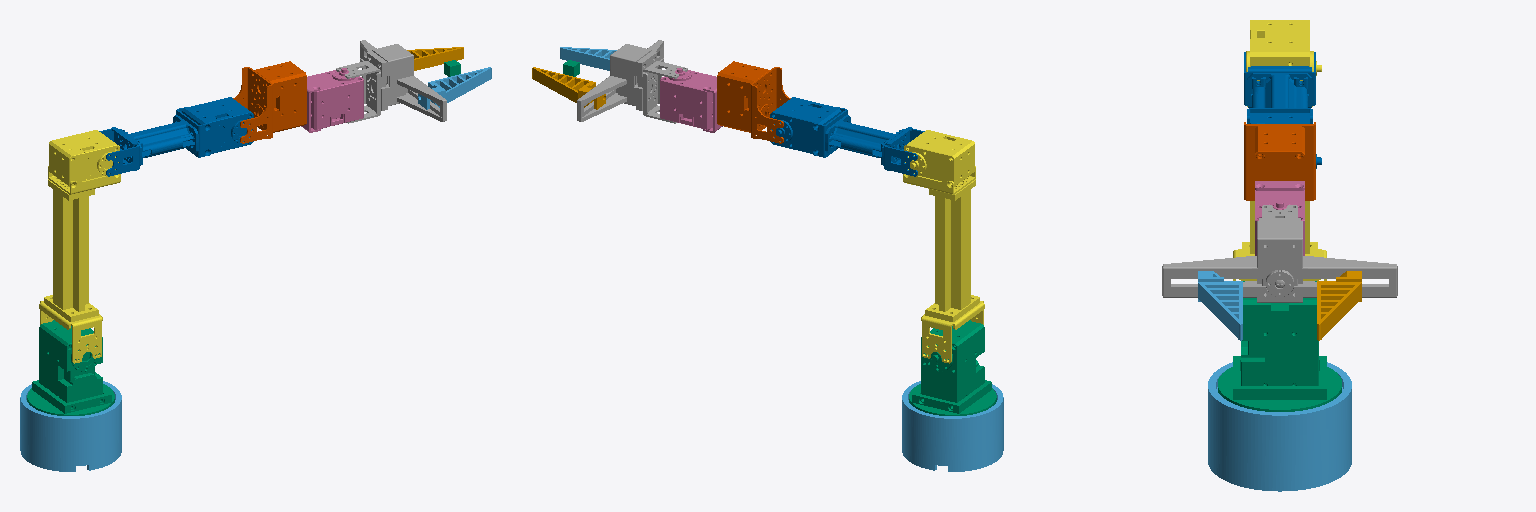
URDF robot description (om):
<?xml version="1.0" ?>
<!-- =================================================================================== -->
<!-- |    This document was autogenerated by xacro from om_v01.urdf.xacro              | -->
<!-- |    EDITING THIS FILE BY HAND IS NOT RECOMMENDED                                 | -->
<!-- =================================================================================== -->
<!-- Open_Manipulator Chain -->
<robot name="om">
  <link name="world"/>
  <joint name="world_joint" type="fixed">
    <origin rpy="0 0 0" xyz="0 0.0 0.0"/>
    <parent link="world"/>
    <child link="link1"/>
  </joint>
  <!-- Link 1 -->
  <link name="link1">
    <visual>
      <origin rpy="0 0 0" xyz="0 0 0"/>
      <geometry>
        <mesh filename="package://om_urdf/meshes/stl/chain_link1.stl" scale="0.001 0.001 0.001"/>
      </geometry>
      <material name="grey"/>
    </visual>
    <collision>
      <origin rpy="0 0 0" xyz="0 0 0"/>
      <geometry>
        <mesh filename="package://om_urdf/meshes/stl/chain_link1.stl" scale="0.001 0.001 0.001"/>
      </geometry>
    </collision>
    <inertial>
      <origin xyz="3.0876154e-04 0.0000000e+00 -1.2176461e-04"/>
      <mass value="7.9119962e-02"/>
      <inertia ixx="1.2505234e-05" ixy="0.0" ixz="-1.7855208e-07" iyy="2.1898364e-05" iyz="0.0" izz="1.9267361e-05"/>
    </inertial>
  </link>
  <!-- Joint 1 -->
  <joint name="joint1" type="revolute">
    <parent link="link1"/>
    <child link="link2"/>
    <origin rpy="0 0 0" xyz="0.0 0.0 0.036"/>
    <axis xyz="0 0 1"/>
    <limit effort="1" lower="-2.827433388230814" upper="2.827433388230814" velocity="4.8"/>
  </joint>
  <!--  Link 2 -->
  <link name="link2">
    <visual>
      <origin rpy="0 0 0" xyz="0 0 0.0"/>
      <geometry>
        <mesh filename="package://om_urdf/meshes/stl/chain_link2.stl" scale="0.001 0.001 0.001"/>
      </geometry>
      <material name="grey"/>
    </visual>
    <collision>
      <origin rpy="0 0 0" xyz="0 0 0.0"/>
      <geometry>
        <mesh filename="package://om_urdf/meshes/stl/chain_link2.stl" scale="0.001 0.001 0.001"/>
      </geometry>
    </collision>
    <inertial>
      <origin xyz="-3.0184870e-04 5.4043684e-04 0.047433463999999995"/>
      <mass value="9.8406837e-02"/>
      <inertia ixx="3.4543422e-05" ixy="-1.6031095e-08" ixz="-3.8375155e-07" iyy="3.2689329e-05" iyz="2.8511935e-08" izz="1.8850320e-05"/>
    </inertial>
  </link>
  <!--  Joint 2 -->
  <joint name="joint2" type="revolute">
    <parent link="link2"/>
    <child link="link3"/>
    <origin rpy="0 0 0" xyz="0.0 0.0 0.05675"/>
    <axis xyz="0 1 0"/>
    <limit effort="1" lower="-1.790707812546182" upper="1.5707963267948966" velocity="4.8"/>
  </joint>
  <!--  Link 3 -->
  <link name="link3">
    <visual>
      <origin rpy="0 0 0" xyz="0 0 0"/>
      <geometry>
        <mesh filename="package://om_urdf/meshes/stl/chain_link3.stl" scale="0.001 0.001 0.001"/>
      </geometry>
      <material name="grey"/>
    </visual>
    <collision>
      <origin rpy="0 0 0" xyz="0 0 0"/>
      <geometry>
        <mesh filename="package://om_urdf/meshes/stl/chain_link3.stl" scale="0.001 0.001 0.001"/>
      </geometry>
    </collision>
    <inertial>
      <origin xyz="1.0308393e-02 3.7743363e-04 1.0170197e-01"/>
      <mass value="1.3850917e-01"/>
      <inertia ixx="3.3055381e-04" ixy="-9.7940978e-08" ixz="-3.8505711e-05" iyy="3.4290447e-04" iyz="-1.5717516e-06" izz="6.0346498e-05"/>
    </inertial>
  </link>
  <!--  Joint 3 -->
  <joint name="joint3" type="revolute">
    <parent link="link3"/>
    <child link="link4"/>
    <origin rpy="0 0 0" xyz="0.024 0 0.161714"/>
    <axis xyz="0 1 0"/>
    <limit effort="1" lower="-1.790707812546182" upper="1.382300767579509" velocity="4.8"/>
  </joint>
  <!--  Link 4 -->
  <link name="link4">
    <visual>
      <origin rpy="0 0 0" xyz="0 0 0"/>
      <geometry>
        <mesh filename="package://om_urdf/meshes/stl/chain_link4.stl" scale="0.001 0.001 0.001"/>
      </geometry>
      <material name="grey"/>
    </visual>
    <collision>
      <origin rpy="0 0 0" xyz="0 0 0"/>
      <geometry>
        <mesh filename="package://om_urdf/meshes/stl/chain_link4.stl" scale="0.001 0.001 0.001"/>
      </geometry>
    </collision>
    <inertial>
      <origin xyz="9.0909590e-02 3.8929816e-04 2.2413279e-04"/>
      <mass value="1.3274562e-01"/>
      <inertia ixx="3.0654178e-05" ixy="-1.2764155e-06" ixz="-2.6874417e-07" iyy="2.4230292e-04" iyz="1.1559550e-08" izz="2.5155057e-04"/>
    </inertial>
  </link>
  <!--  Joint 4 -->
  <joint name="joint4" type="revolute">
    <parent link="link4"/>
    <child link="link5"/>
    <origin rpy="0 0 0" xyz="0.1235 0.0 0.0"/>
    <axis xyz="0 1 0"/>
    <limit effort="1" lower="-1.790707812546182" upper="2.0420352248333655" velocity="4.8"/>
  </joint>
  <!--  Link 5 -->
  <link name="link5">
    <visual>
      <origin rpy="0 0 0" xyz="0 0 0"/>
      <geometry>
        <mesh filename="package://om_urdf/meshes/stl/chain_link5.stl" scale="0.001 0.001 0.001"/>
      </geometry>
      <material name="grey"/>
    </visual>
    <collision>
      <origin rpy="0 0 0" xyz="0 0 0"/>
      <geometry>
        <mesh filename="package://om_urdf/meshes/stl/chain_link5.stl" scale="0.001 0.001 0.001"/>
      </geometry>
    </collision>
    <inertial>
      <origin xyz="0 0 0"/>
      <mass value="1.0e-03"/>
      <inertia ixx="1.0e-03" ixy="0.0" ixz="0.0" iyy="1.0e-03" iyz="0.0" izz="1.0e-03"/>
    </inertial>
  </link>
  <!--  Joint 5 -->
  <joint name="joint5" type="revolute">
    <parent link="link5"/>
    <child link="link6"/>
    <origin rpy="0 0 0" xyz="0.064 0.0 0.0"/>
    <axis xyz="1 0 0"/>
    <limit effort="1" lower="-3.141592653589793" upper="3.141592653589793" velocity="4.8"/>
  </joint>
  <!--  Link 6 -->
  <link name="link6">
    <visual>
      <origin rpy="0 0 0" xyz="0 0 0"/>
      <geometry>
        <mesh filename="package://om_urdf/meshes/stl/chain_link6.stl" scale="0.001 0.001 0.001"/>
      </geometry>
      <material name="grey"/>
    </visual>
    <collision>
      <origin rpy="0 0 0" xyz="0 0 0"/>
      <geometry>
        <mesh filename="package://om_urdf/meshes/stl/chain_link6.stl" scale="0.001 0.001 0.001"/>
      </geometry>
    </collision>
    <inertial>
      <origin xyz="0 0 0"/>
      <mass value="1.0e-03"/>
      <inertia ixx="1.0e-03" ixy="0.0" ixz="0.0" iyy="1.0e-03" iyz="0.0" izz="1.0e-03"/>
    </inertial>
  </link>
  <!--  Joint 6 -->
  <joint name="joint6" type="revolute">
    <parent link="link6"/>
    <child link="link7"/>
    <origin rpy="0 0 0" xyz="0.0405 0.0 0.0"/>
    <axis xyz="0 0 1"/>
    <limit effort="1" lower="-1.790707812546182" upper="1.790707812546182" velocity="4.8"/>
  </joint>
  <!--  Link 7 -->
  <link name="link7">
    <visual>
      <origin rpy="0 0 0" xyz="0 0 0"/>
      <geometry>
        <mesh filename="package://om_urdf/meshes/stl/chain_link7_without_grippers.stl" scale="0.001 0.001 0.001"/>
      </geometry>
      <material name="grey"/>
    </visual>
    <collision>
      <origin rpy="0 0 0" xyz="0 0 0"/>
      <geometry>
        <mesh filename="package://om_urdf/meshes/stl/chain_link7_without_grippers.stl" scale="0.001 0.001 0.001"/>
      </geometry>
    </collision>
    <inertial>
      <origin xyz="0 0 0"/>
      <mass value="1.0e-03"/>
      <inertia ixx="1.0e-03" ixy="0.0" ixz="0.0" iyy="1.0e-03" iyz="0.0" izz="1.0e-03"/>
    </inertial>
  </link>
  <!--  Gripper joint -->
  <joint name="gripper" type="prismatic">
    <parent link="link7"/>
    <child link="gripper_link"/>
    <origin rpy="0 0 0" xyz="0.059 0.021 0.0"/>
    <axis xyz="0 1 0"/>
    <limit effort="1" lower="-0.010" upper="0.019" velocity="4.8"/>
  </joint>
  <!--  Gripper link -->
  <link name="gripper_link">
    <visual>
      <origin rpy="0 0 0" xyz="0.0 0.0 0"/>
      <geometry>
        <mesh filename="package://om_urdf/meshes/stl/chain_link_grip_l.stl" scale="0.001 0.001 0.001"/>
      </geometry>
      <material name="grey"/>
    </visual>
    <collision>
      <origin rpy="0 0 0" xyz="0.0 0.0 0"/>
      <geometry>
        <mesh filename="package://om_urdf/meshes/stl/chain_link_grip_l.stl" scale="0.001 0.001 0.001"/>
      </geometry>
    </collision>
    <inertial>
      <origin xyz="0 0 0"/>
      <mass value="1.0e-03"/>
      <inertia ixx="1.0e-03" ixy="0.0" ixz="0.0" iyy="1.0e-03" iyz="0.0" izz="1.0e-03"/>
    </inertial>
  </link>
  <!--  Gripper joint sub -->
  <joint name="gripper_sub" type="prismatic">
    <parent link="link7"/>
    <child link="gripper_link_sub"/>
    <origin rpy="0 0 0" xyz="0.059 -0.021 0"/>
    <axis xyz="0 -1 0"/>
    <limit effort="1" lower="-0.010" upper="0.019" velocity="4.8"/>
    <mimic joint="gripper" multiplier="1"/>
  </joint>
  <!--  Gripper link sub -->
  <link name="gripper_link_sub">
    <visual>
      <origin rpy="0 0 0" xyz="0.0 -0.0 0"/>
      <geometry>
        <mesh filename="package://om_urdf/meshes/stl/chain_link_grip_r.stl" scale="0.001 0.001 0.001"/>
      </geometry>
      <material name="grey"/>
    </visual>
    <collision>
      <origin rpy="0 0 0" xyz="0.0 -0.0 0"/>
      <geometry>
        <mesh filename="package://om_urdf/meshes/stl/chain_link_grip_r.stl" scale="0.001 0.001 0.001"/>
      </geometry>
    </collision>
    <inertial>
      <origin xyz="0 0 0"/>
      <mass value="1.0e-03"/>
      <inertia ixx="1.0e-03" ixy="0.0" ixz="0.0" iyy="1.0e-03" iyz="0.0" izz="1.0e-03"/>
    </inertial>
  </link>
  <!-- end effector joint -->
  <joint name="end_effector_joint" type="fixed">
    <origin rpy="0 0 0" xyz="0.1 0.0 0.0"/>
    <parent link="link7"/>
    <child link="end_effector_link"/>
  </joint>
  <!-- end effector link -->
  <link name="end_effector_link">
    <visual>
      <origin rpy="0 0 0" xyz="0 0 0"/>
      <geometry>
        <box size="0.01 0.01 0.01"/>
      </geometry>
      <material name="red"/>
    </visual>
    <inertial>
      <origin xyz="0 0 0"/>
      <mass value="1.0e-03"/>
      <inertia ixx="1.0e-03" ixy="0.0" ixz="0.0" iyy="1.0e-03" iyz="0.0" izz="1.0e-03"/>
    </inertial>
  </link>
</robot>

--- Facts derived from the render (not from the file) ---
Views: 3 orthographic renders of the robot side by side, from view 1: azimuth 30°, elevation 25°; view 2: azimuth 150°, elevation 25°; view 3: azimuth 270°, elevation 25°.
Model om with 11 links and 10 joints (6 revolute, 2 prismatic, 2 fixed), rooted at world, posed all joints at 0.
Links seen in each view (by area): view 1: link3, link1, link4, link2, link7, link5, link6, gripper_link_sub, gripper_link; view 2: link3, link1, link4, link2, link7, link5, link6, gripper_link, gripper_link_sub; view 3: link1, link2, link7, link5, link4, link3, gripper_link, gripper_link_sub, link6.
Boxes of the visible links, <box> form: link3: <box>39,130,120,363</box>; link1: <box>20,381,121,471</box>; link4: <box>99,97,253,176</box>; link2: <box>27,320,114,415</box>; link7: <box>336,40,446,123</box>; link5: <box>233,61,306,143</box>; link6: <box>301,68,363,132</box>; gripper_link_sub: <box>418,67,491,109</box>; gripper_link: <box>407,47,463,70</box>; link3: <box>903,130,984,363</box>; link1: <box>902,381,1003,471</box>; link4: <box>770,97,924,176</box>; link2: <box>909,320,996,415</box>; link7: <box>577,40,687,123</box>; link5: <box>717,61,790,143</box>; link6: <box>660,68,722,132</box>; gripper_link: <box>532,67,605,109</box>; gripper_link_sub: <box>560,47,616,70</box>; link1: <box>1208,362,1351,491</box>; link2: <box>1218,281,1341,411</box>; link7: <box>1162,205,1397,302</box>; link5: <box>1244,122,1315,200</box>; link4: <box>1244,52,1321,168</box>; link3: <box>1233,20,1326,280</box>; gripper_link: <box>1317,271,1361,340</box>; gripper_link_sub: <box>1198,271,1242,340</box>; link6: <box>1255,181,1304,255</box>.
Bounding box of the posed robot: 0.4155 × 0.132 × 0.2897 m (x, y, z).
9 mesh visuals loaded from 9 distinct referenced files (9 binary STL).
